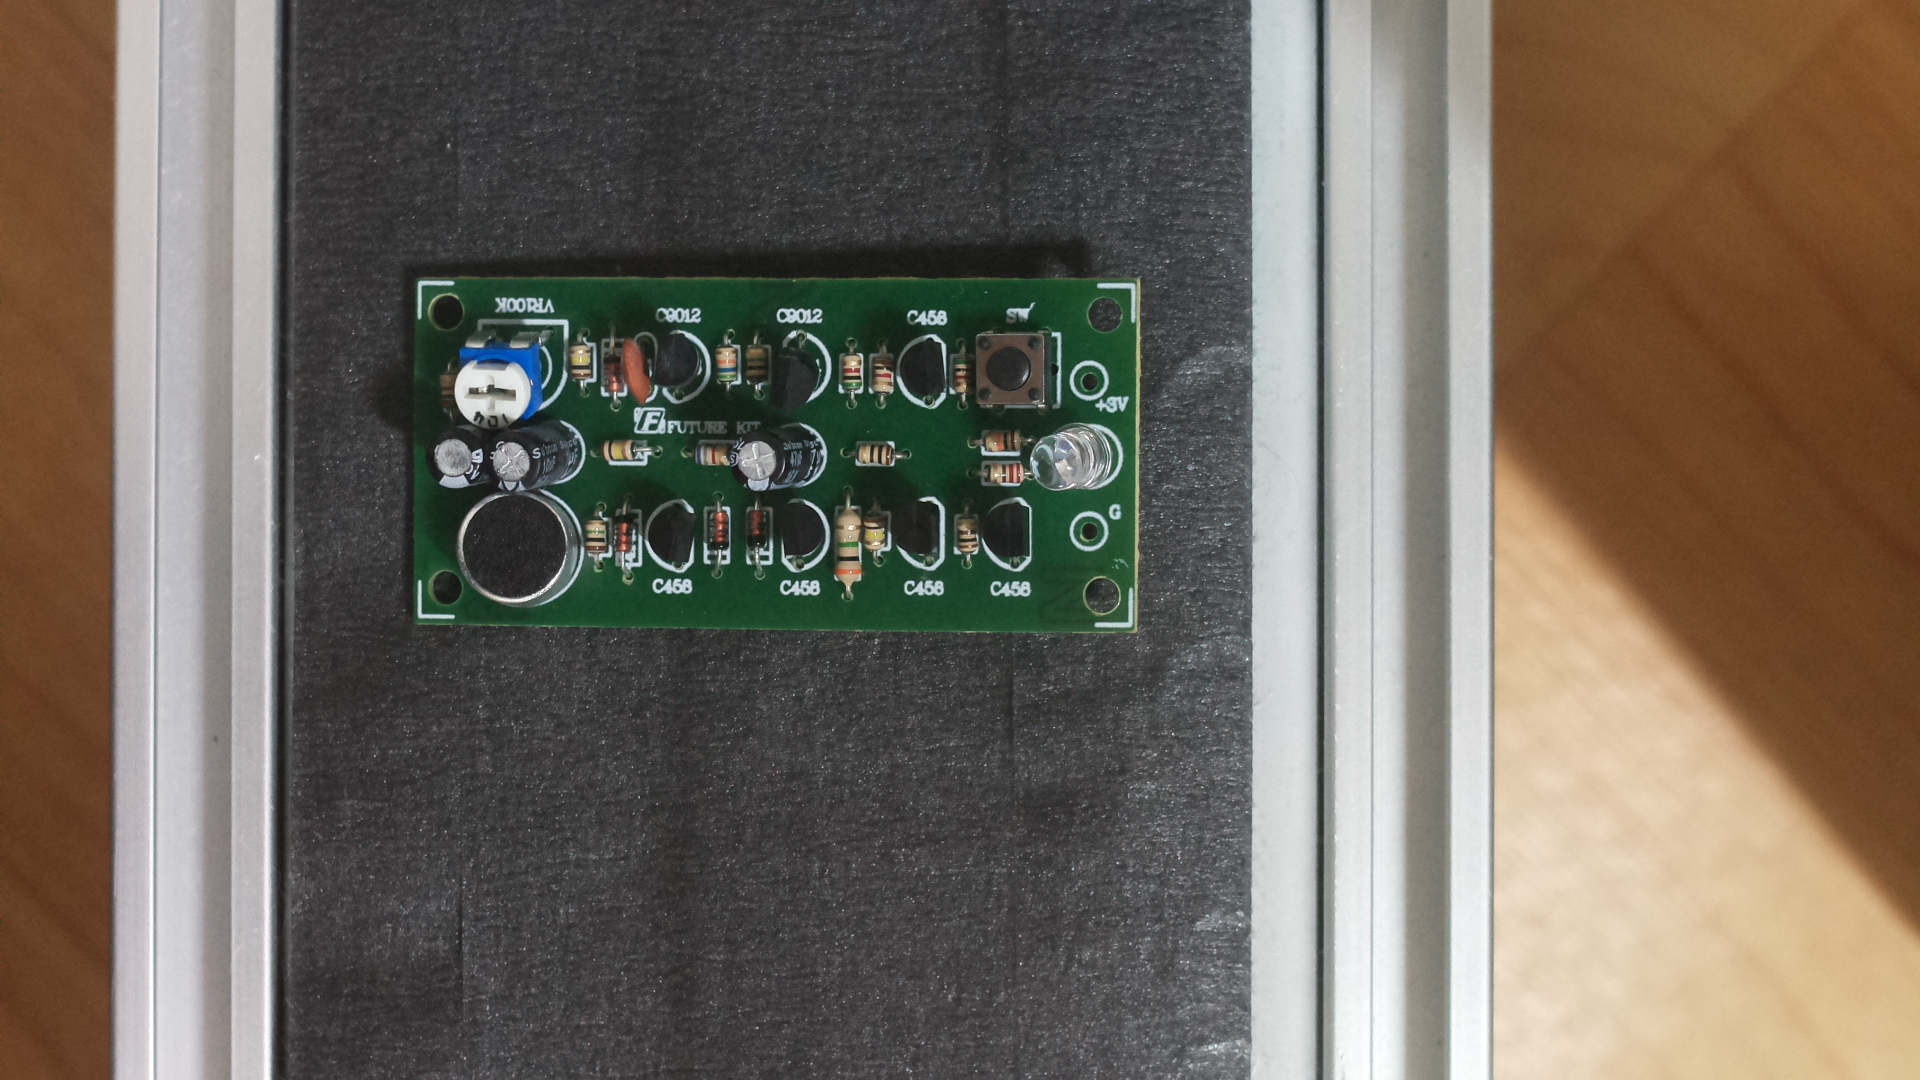A_Normal: (402, 262, 1156, 653)
